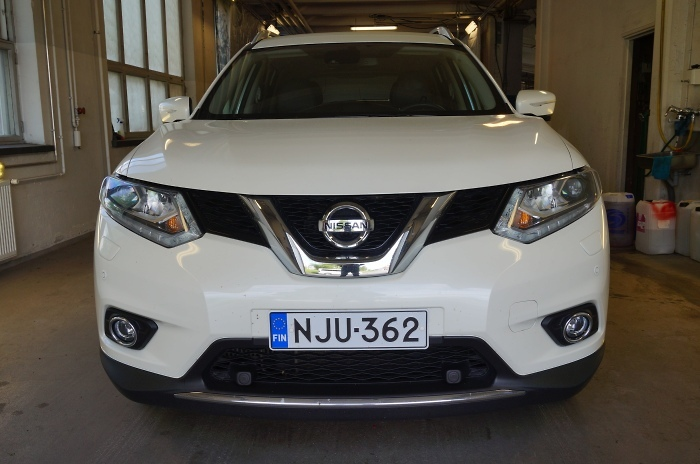license: (267, 310, 427, 355)
